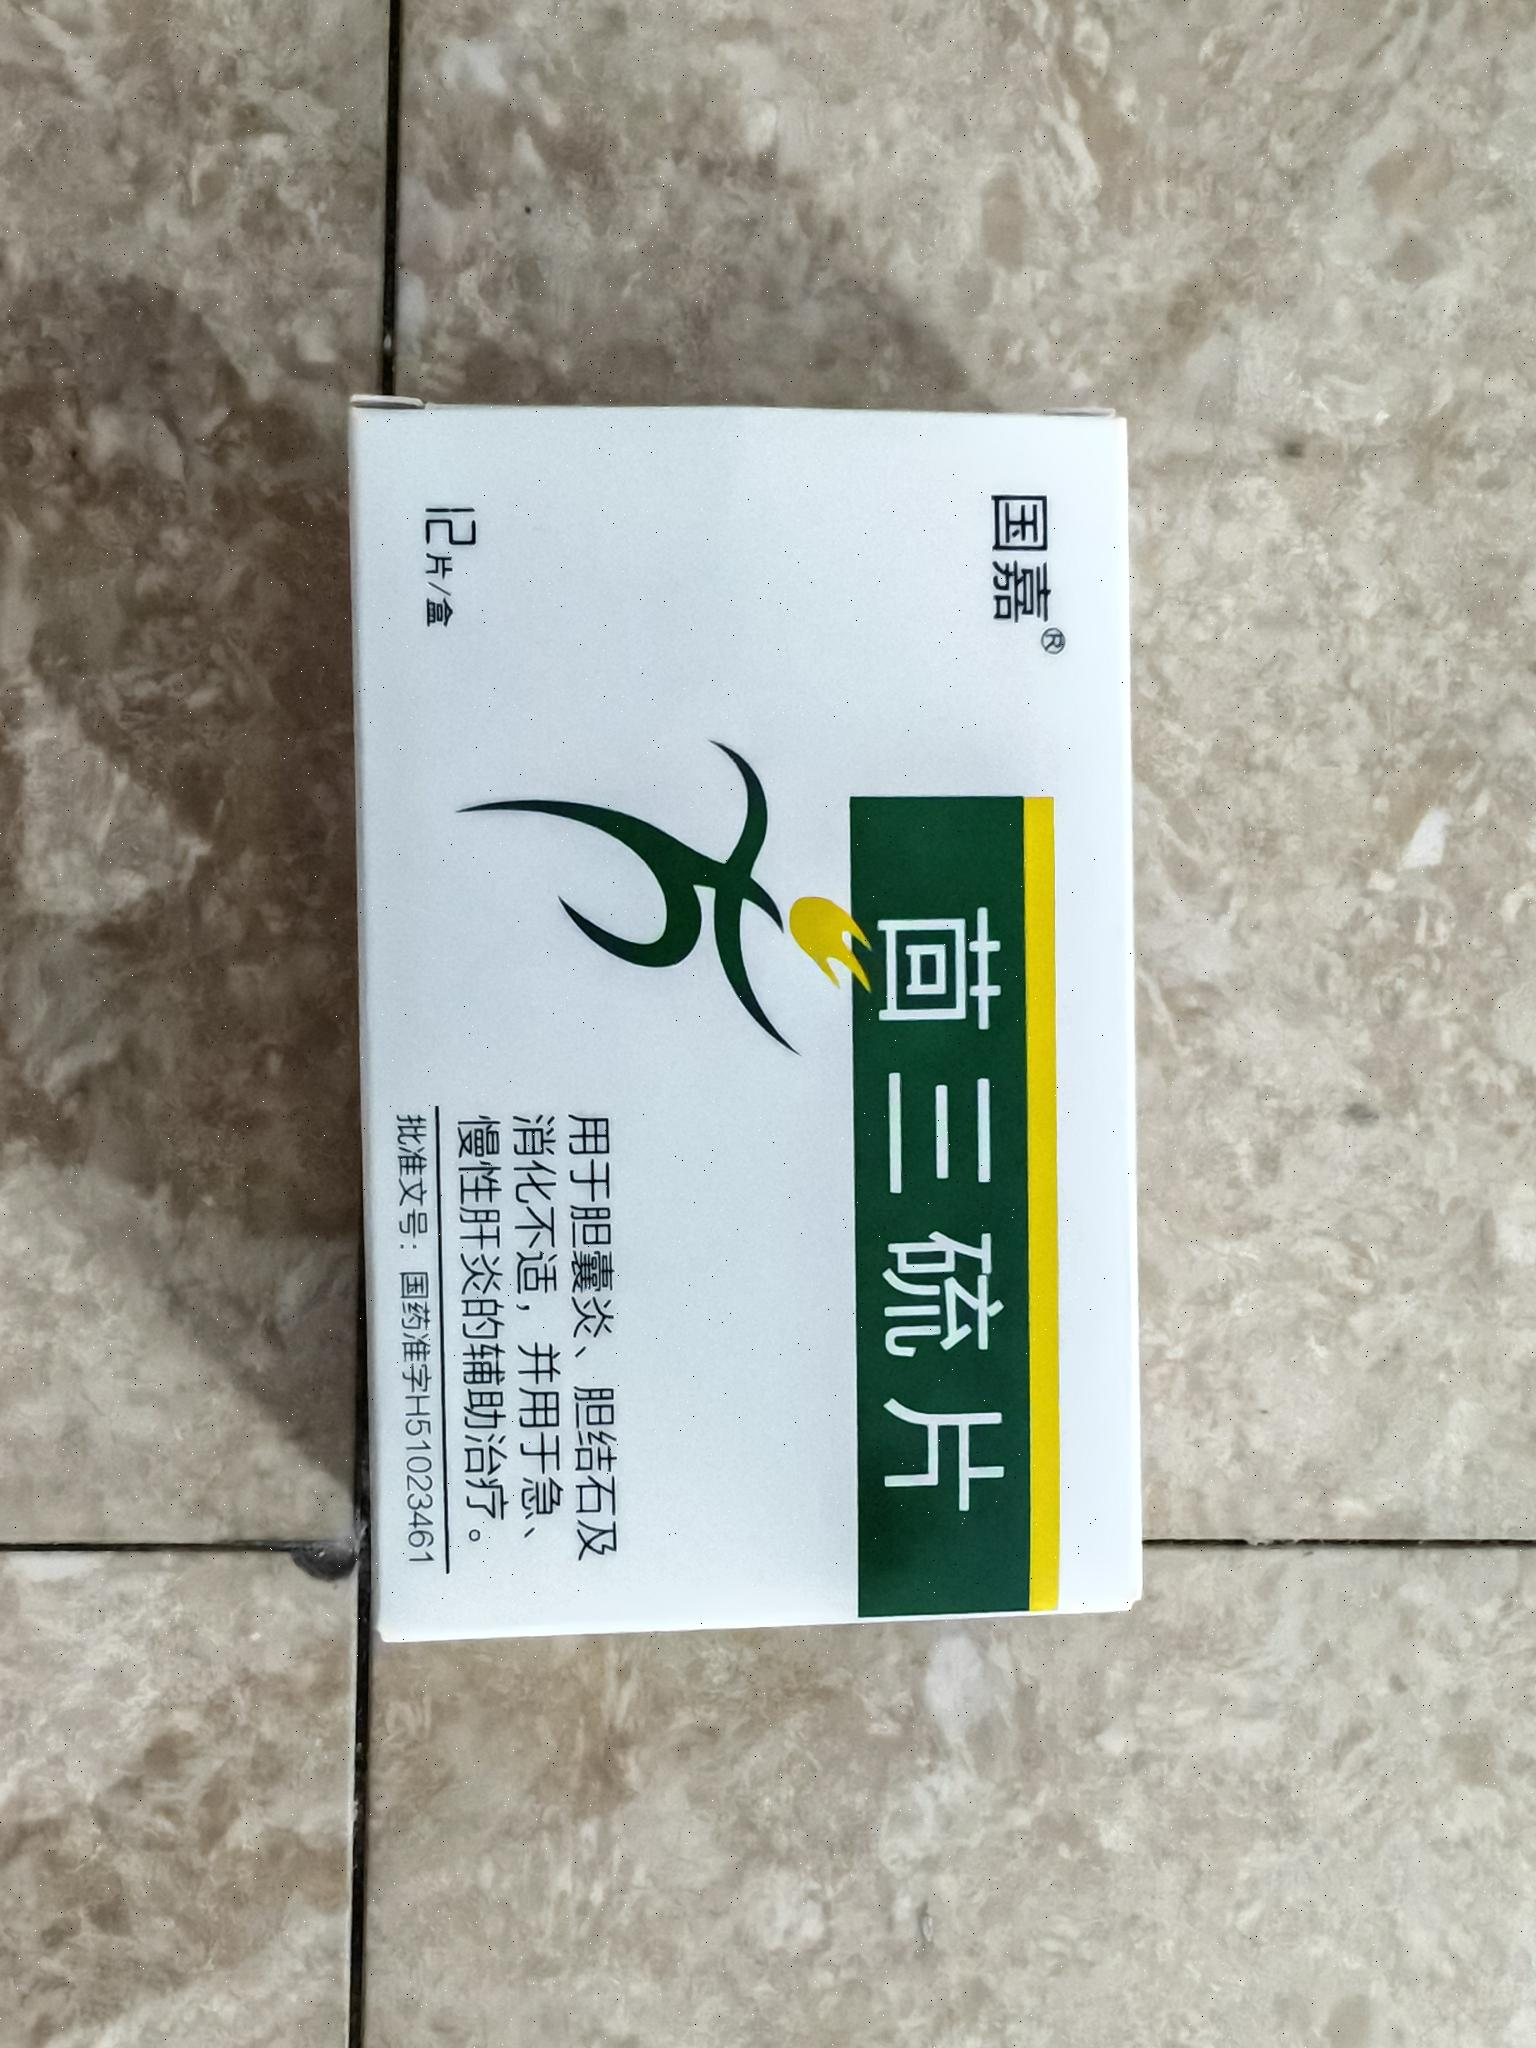Medicine4: (308, 364, 1170, 1664)
